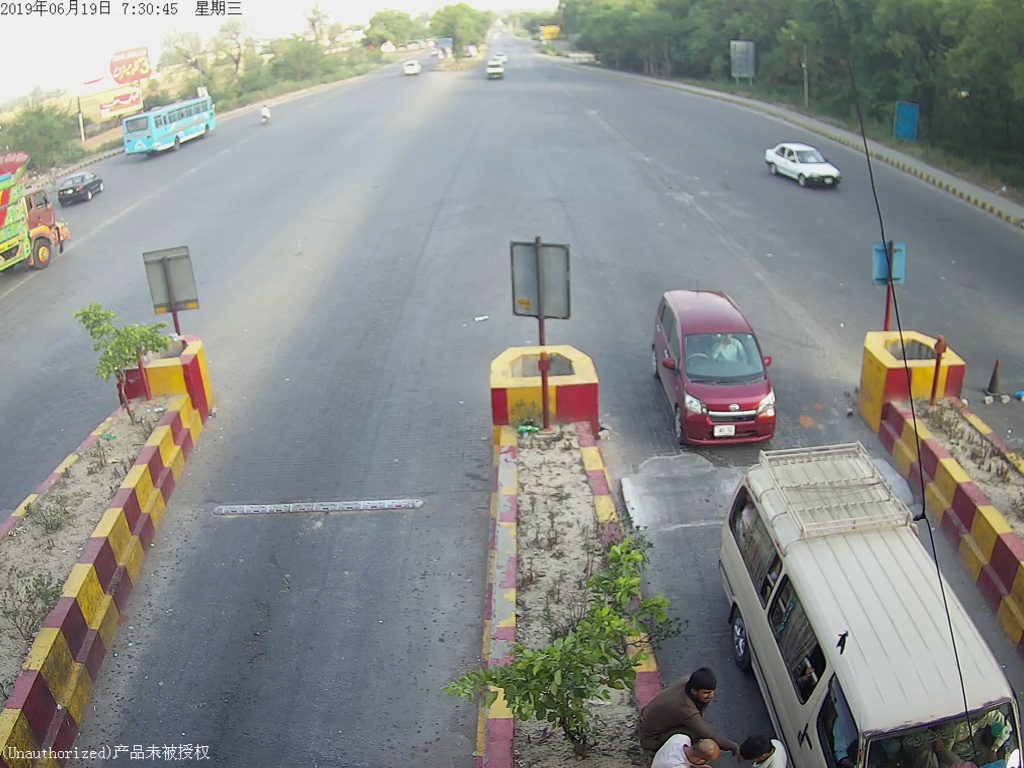Cat-1: (643, 302, 790, 447)
